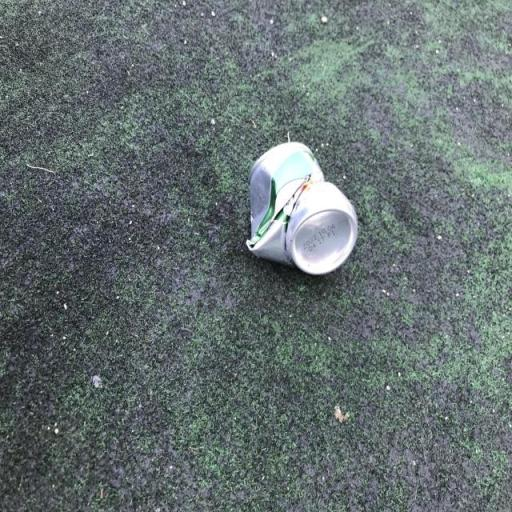metal: (234, 126, 364, 300)
